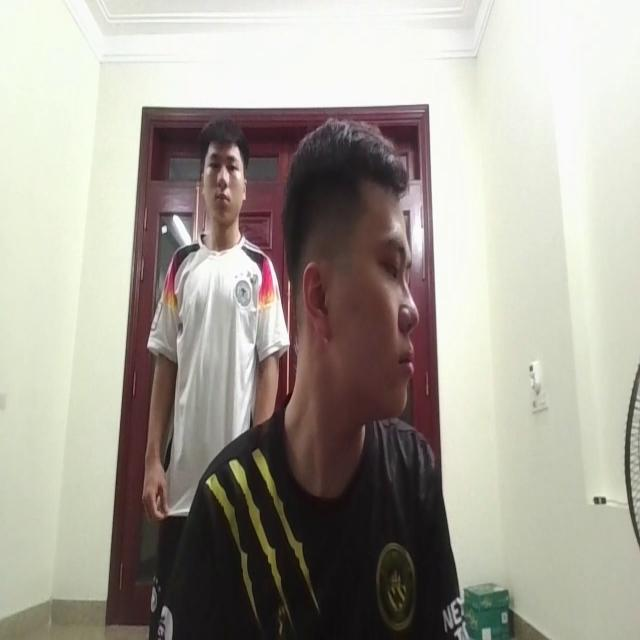extra_person: (133, 114, 286, 518)
student: (203, 126, 456, 640)
